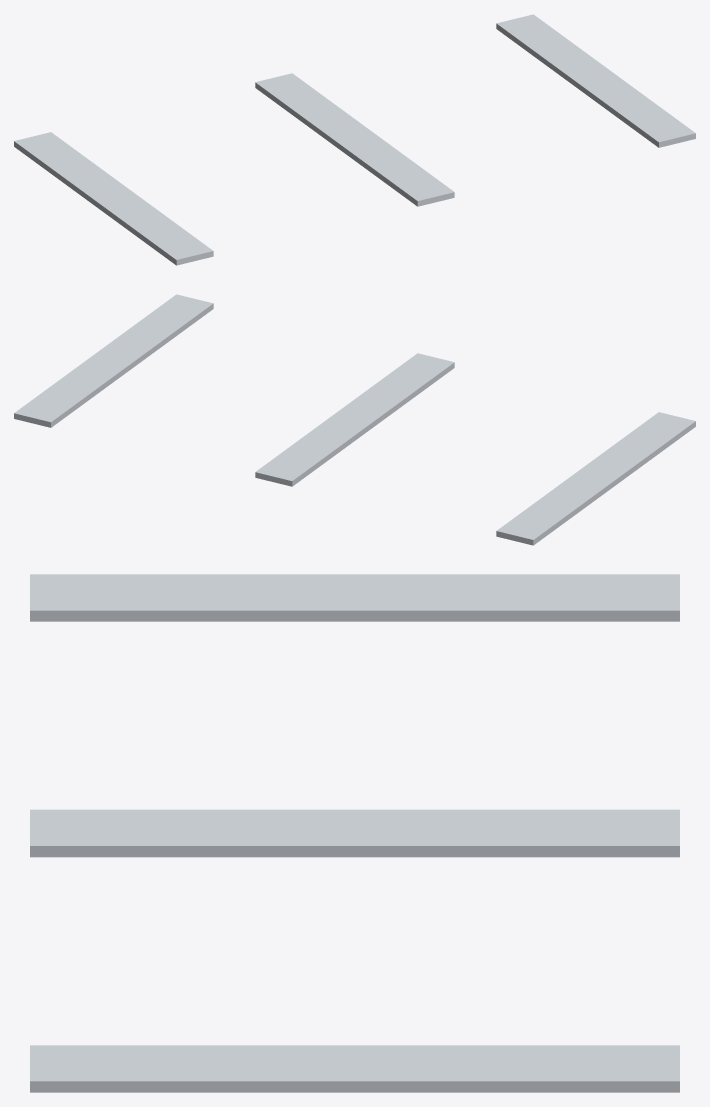
File: f_ceiling_lamps.fbx
3 views of the same model, one above another, from view 1: azimuth 30°, elevation 25°; view 2: azimuth 150°, elevation 25°; view 3: azimuth 270°, elevation 25° (orthographic). The views are drawn at different scales.
Parts seen in each view (by area): view 1: Lamp_1; view 2: Lamp_1; view 3: Lamp_1.
Part boxes in pixels (x1=…): Lamp_1: x1=14, y1=14, x2=695, y2=265; Lamp_1: x1=14, y1=294, x2=695, y2=545; Lamp_1: x1=30, y1=574, x2=679, y2=1092.
Bounding box in the file's own units: 593 × 7.59 × 321.
